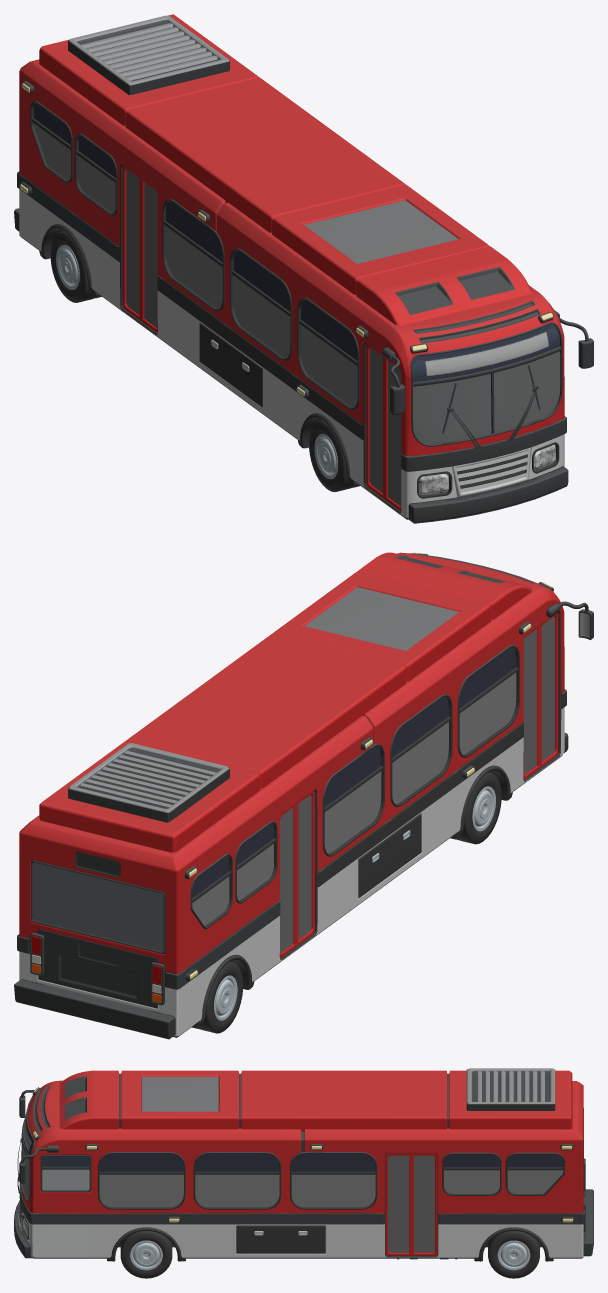
Rendered from bus.glb.
3 renders of one model, top to bottom at view 1: azimuth 30°, elevation 25°; view 2: azimuth 150°, elevation 25°; view 3: azimuth 270°, elevation 25°, orthographic. The views are drawn at different scales.
Visible parts, largest first — view 1: node_id30; view 2: node_id30; view 3: node_id30.
Boxes of the visible parts, x1,y1,x2,y2 form: node_id30: (14,14,593,523); node_id30: (14,552,593,1039); node_id30: (14,1068,593,1278).
Bounding box in the file's own units: 0.4609 × 0.512 × 1.62.
1 material, 1 textured.
